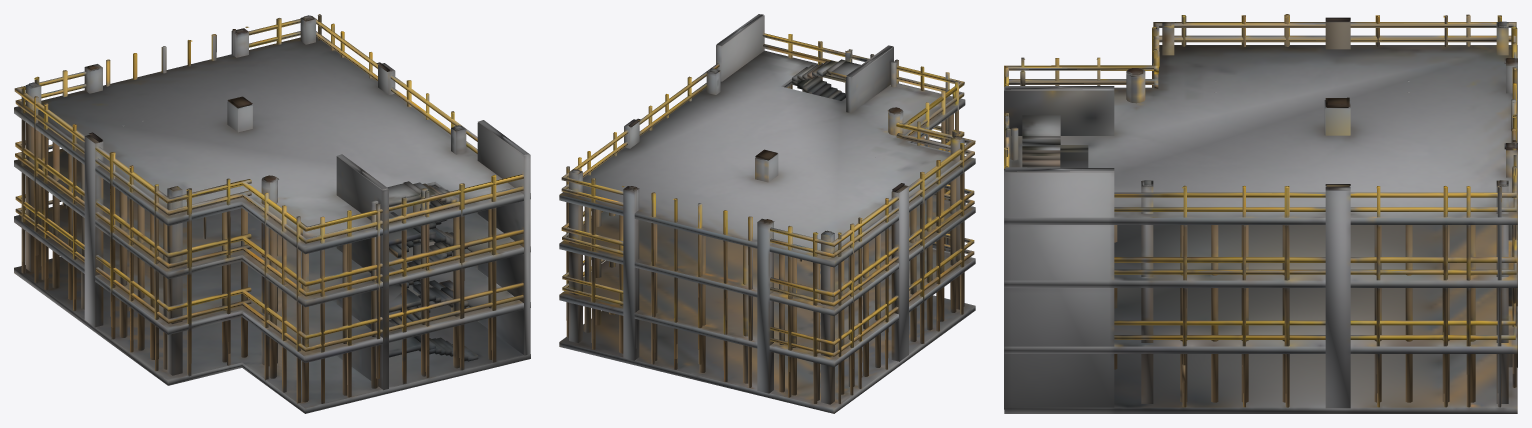
Rendered from İnsaat001.fbx.
3 renders of one model, left to right at view 1: azimuth 30°, elevation 25°; view 2: azimuth 150°, elevation 25°; view 3: azimuth 270°, elevation 25°, orthographic. The views are drawn at different scales.
Visible parts, largest first — view 1: texture_pbr_v128.001; view 2: texture_pbr_v128.001; view 3: texture_pbr_v128.001.
Boxes of the visible parts, <box> form: texture_pbr_v128.001: <box>14,14,530,413</box>; texture_pbr_v128.001: <box>559,14,975,413</box>; texture_pbr_v128.001: <box>1004,14,1517,413</box>.
Size of the model in its own units: 69.53 by 45.34 by 86.94.
Materials: 1 (1 with a texture image).
